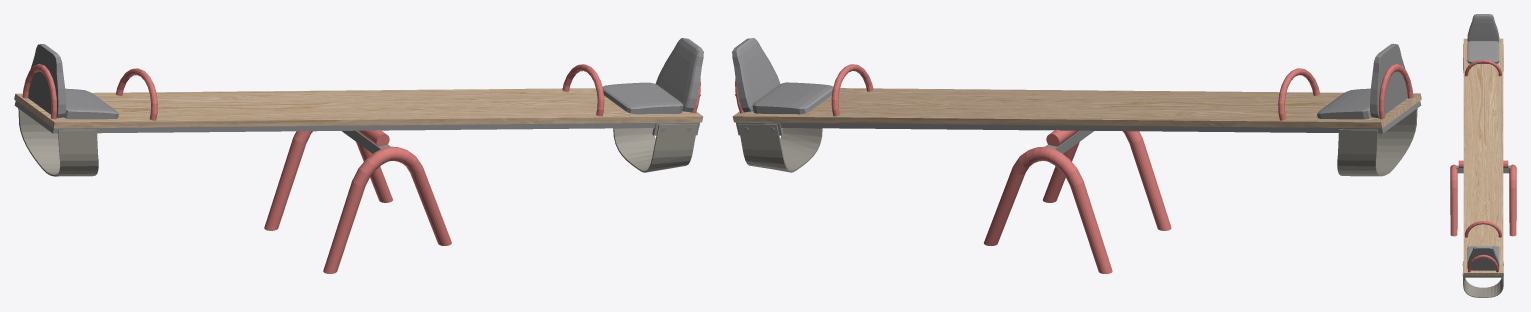
Rendered from sweethome3d-blendswap-cc-0-seesaw-128.glb.
3 renders of one model, left to right at view 1: azimuth 30°, elevation 25°; view 2: azimuth 150°, elevation 25°; view 3: azimuth 270°, elevation 25°, orthographic. The views are drawn at different scales.
Parts seen in each view (by area): view 1: Seesaw, Wood; view 2: Seesaw, Wood; view 3: Wood, Seesaw.
Boxes of the visible parts, x1,y1,x2,y2 form: Seesaw: (14,38,703,273); Wood: (14,88,703,128); Seesaw: (732,38,1421,273); Wood: (732,88,1421,128); Wood: (1463,38,1503,275); Seesaw: (1450,14,1516,297).
Size of the model in its own units: 240 by 90.73 by 41.65.
5 materials, 1 textured.
